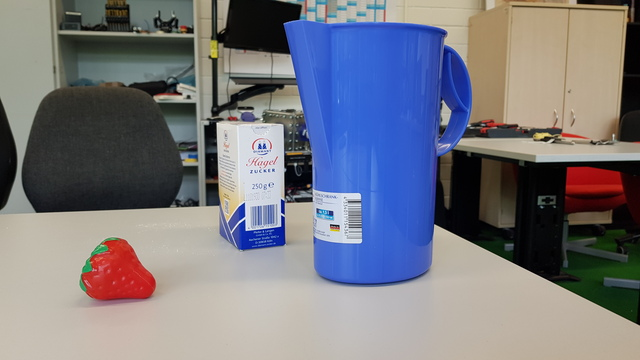004_sugar_box: (216, 120, 288, 251)
012_strawberry: (78, 237, 157, 302)
019_pitcher_base: (282, 20, 473, 285)
